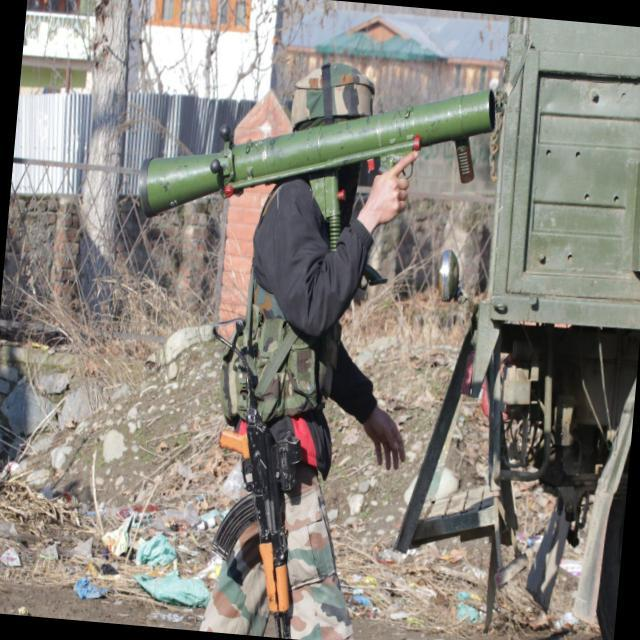rocket: (134, 49, 506, 252)
